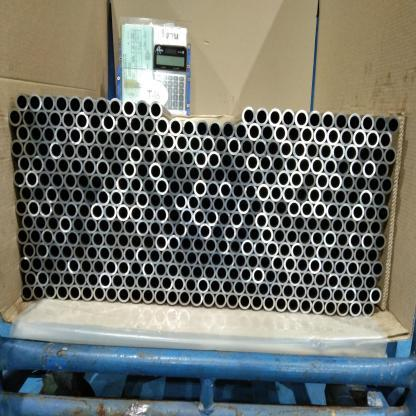pipe: (344, 143, 359, 163), (225, 166, 240, 186), (320, 186, 335, 206), (42, 124, 56, 145), (300, 124, 314, 145), (115, 113, 129, 134), (387, 115, 401, 136), (292, 140, 307, 159), (370, 145, 385, 164), (232, 152, 247, 171), (245, 153, 260, 172), (263, 168, 278, 187), (289, 170, 304, 189), (287, 124, 301, 144), (55, 125, 69, 145), (68, 126, 82, 146), (340, 127, 354, 147), (352, 128, 366, 148), (366, 129, 380, 149), (148, 131, 162, 151), (162, 132, 176, 152), (202, 134, 216, 154), (89, 142, 103, 162), (32, 184, 46, 204), (108, 97, 122, 117), (122, 98, 136, 118), (135, 99, 149, 119), (22, 108, 36, 128), (35, 108, 49, 128), (334, 112, 348, 132), (88, 112, 102, 132), (128, 114, 142, 134), (142, 115, 156, 135), (156, 116, 170, 136), (221, 120, 235, 140), (260, 122, 274, 142), (379, 129, 392, 150), (292, 214, 307, 232), (16, 124, 30, 143), (29, 125, 43, 144), (313, 127, 327, 146), (326, 127, 340, 146), (82, 127, 96, 146), (95, 128, 109, 147), (108, 128, 122, 147), (136, 131, 150, 150), (175, 133, 189, 152), (188, 134, 202, 153), (227, 136, 241, 155), (240, 137, 254, 156), (253, 138, 267, 157), (266, 139, 280, 158), (10, 139, 24, 158), (36, 140, 50, 159), (306, 141, 320, 160), (62, 141, 76, 160), (76, 142, 90, 161), (358, 145, 372, 164), (116, 145, 130, 164), (142, 146, 156, 165), (155, 147, 169, 166), (168, 148, 182, 167), (181, 149, 195, 168), (271, 154, 285, 173), (30, 155, 44, 174), (284, 155, 298, 174), (56, 156, 70, 175), (310, 156, 324, 175), (69, 157, 83, 176), (324, 157, 338, 176), (336, 158, 350, 177), (96, 158, 110, 177), (109, 159, 123, 178), (122, 160, 136, 179), (136, 161, 150, 180), (162, 162, 176, 181), (187, 164, 201, 183), (238, 167, 252, 186), (251, 168, 265, 187), (76, 172, 90, 191), (328, 172, 342, 191), (354, 174, 368, 193), (129, 175, 143, 194), (142, 176, 156, 195), (295, 185, 309, 204), (308, 186, 322, 205), (83, 187, 97, 206), (130, 204, 144, 223), (46, 214, 60, 233), (148, 219, 162, 238), (54, 95, 68, 114), (68, 95, 82, 114), (82, 96, 96, 115), (95, 97, 109, 116), (242, 107, 256, 126), (8, 108, 22, 127), (268, 108, 282, 127), (281, 108, 295, 127), (308, 110, 322, 129), (62, 110, 76, 129), (321, 111, 335, 130), (75, 111, 89, 130), (102, 113, 116, 132), (347, 113, 361, 132), (374, 115, 388, 134), (247, 122, 261, 141), (149, 100, 162, 120), (122, 130, 136, 148), (214, 136, 228, 154), (23, 140, 37, 158), (279, 140, 293, 158), (102, 144, 116, 162), (128, 146, 142, 164), (194, 150, 208, 168), (258, 154, 272, 172), (298, 156, 312, 174), (43, 156, 57, 174), (82, 158, 96, 176), (362, 160, 376, 178), (148, 162, 162, 180), (200, 165, 214, 183), (212, 166, 226, 184), (315, 172, 329, 190), (90, 174, 104, 192), (102, 174, 116, 192), (116, 175, 130, 193), (155, 178, 169, 196), (168, 178, 182, 196), (193, 180, 207, 198), (244, 182, 258, 200), (282, 185, 296, 203), (58, 186, 72, 204), (96, 188, 110, 206), (110, 189, 124, 207), (122, 190, 136, 208), (148, 192, 162, 210), (186, 194, 200, 212), (224, 196, 238, 214), (262, 198, 276, 216), (312, 201, 326, 219), (90, 203, 104, 221), (338, 203, 352, 221), (116, 204, 130, 222), (242, 211, 256, 229), (306, 215, 320, 233), (318, 216, 332, 234), (84, 216, 98, 234), (356, 218, 370, 236), (136, 218, 150, 236), (260, 226, 274, 244), (116, 232, 130, 250), (228, 238, 242, 256), (30, 256, 44, 274), (42, 256, 56, 274), (370, 260, 384, 278), (358, 260, 372, 278), (36, 270, 50, 288), (326, 272, 340, 290), (262, 294, 276, 312), (336, 300, 350, 318), (48, 110, 62, 128), (168, 118, 182, 136), (234, 122, 248, 140), (274, 124, 288, 142), (319, 142, 332, 161), (332, 143, 345, 162), (220, 151, 233, 170), (18, 154, 31, 173), (350, 159, 363, 178), (175, 163, 188, 182), (38, 170, 51, 189), (51, 171, 64, 190), (303, 171, 316, 190), (376, 204, 389, 223), (331, 216, 344, 235), (273, 226, 286, 245), (255, 107, 268, 126), (182, 118, 195, 137), (196, 119, 209, 138), (209, 120, 222, 139), (50, 140, 62, 160), (376, 160, 388, 180), (207, 151, 221, 168), (12, 170, 26, 187), (58, 216, 72, 233), (110, 218, 124, 235), (122, 218, 136, 235), (78, 230, 92, 247), (348, 232, 362, 249), (154, 234, 168, 251), (328, 245, 342, 262), (258, 254, 272, 271), (308, 257, 322, 274), (86, 271, 100, 288), (226, 292, 240, 309), (274, 296, 288, 313), (277, 170, 290, 188), (380, 176, 393, 194), (181, 178, 194, 196), (206, 180, 219, 198), (219, 181, 232, 199), (257, 184, 270, 202), (45, 186, 58, 204), (71, 187, 84, 205), (334, 188, 347, 206), (347, 188, 360, 206), (372, 190, 385, 208), (136, 191, 149, 209), (174, 192, 187, 210), (15, 198, 28, 216), (275, 198, 288, 216), (27, 199, 40, 217), (39, 200, 52, 218), (300, 200, 313, 218), (52, 201, 65, 219), (65, 201, 78, 219), (326, 202, 339, 220), (364, 204, 377, 222), (180, 207, 193, 225), (193, 208, 206, 226), (230, 210, 243, 228), (280, 213, 293, 231), (34, 214, 47, 232), (211, 223, 224, 241), (236, 224, 249, 242), (248, 226, 261, 244), (311, 230, 324, 248), (23, 242, 36, 260), (48, 242, 61, 260), (234, 252, 247, 270), (271, 254, 284, 272), (296, 256, 309, 274), (55, 256, 68, 274), (301, 270, 314, 288), (349, 300, 362, 318), (362, 300, 375, 318), (16, 93, 29, 111), (29, 94, 42, 112), (295, 110, 308, 128), (361, 114, 374, 132), (368, 175, 380, 194), (20, 184, 32, 203), (360, 189, 372, 208), (256, 211, 268, 230), (268, 212, 280, 231), (92, 230, 104, 249), (192, 235, 204, 254), (161, 247, 173, 266), (142, 206, 156, 222), (278, 242, 292, 258), (290, 244, 304, 260), (80, 285, 94, 301), (214, 292, 228, 308), (155, 207, 168, 224), (369, 219, 382, 236), (161, 221, 174, 238), (186, 222, 199, 239), (16, 228, 29, 245), (29, 228, 42, 245), (66, 230, 79, 247), (104, 231, 117, 248), (336, 232, 349, 249), (361, 233, 374, 250), (61, 243, 74, 260), (73, 244, 86, 261), (98, 245, 111, 262), (123, 246, 136, 263), (321, 258, 334, 275), (92, 258, 105, 275), (264, 268, 277, 285), (276, 269, 289, 286), (49, 270, 62, 287), (74, 271, 87, 288), (364, 274, 377, 291), (196, 277, 209, 294), (209, 278, 222, 295), (68, 284, 81, 301), (369, 287, 382, 304), (356, 287, 369, 304), (324, 300, 337, 317), (384, 146, 396, 164), (26, 170, 38, 188), (64, 172, 76, 190), (342, 174, 354, 192), (232, 182, 244, 200), (270, 184, 282, 202), (162, 192, 174, 210), (200, 194, 212, 212), (250, 198, 262, 216), (288, 200, 300, 218), (78, 202, 90, 220), (104, 203, 116, 221), (352, 203, 364, 221), (168, 206, 180, 224), (22, 213, 34, 231), (72, 216, 84, 234), (344, 217, 356, 235), (324, 230, 336, 248), (168, 234, 180, 252), (180, 235, 192, 253), (266, 240, 278, 258), (86, 244, 98, 262), (186, 249, 198, 267), (105, 258, 117, 276), (179, 262, 191, 280), (204, 264, 216, 282), (216, 264, 228, 282), (25, 270, 37, 288), (112, 272, 124, 290), (160, 274, 172, 292), (282, 282, 294, 300), (130, 286, 142, 304), (287, 296, 299, 314), (312, 298, 324, 316), (42, 94, 54, 112), (224, 223, 235, 242), (212, 196, 225, 212), (98, 218, 111, 234), (298, 230, 311, 246), (142, 234, 155, 250), (374, 234, 387, 250), (316, 245, 329, 261), (366, 248, 379, 264), (222, 252, 235, 268), (346, 260, 359, 276), (142, 261, 155, 277), (289, 270, 302, 286), (351, 274, 364, 290), (294, 284, 307, 300), (56, 284, 69, 300), (105, 286, 118, 302), (206, 209, 218, 226), (174, 221, 186, 238), (199, 223, 211, 240), (54, 229, 66, 246), (130, 233, 142, 250), (204, 237, 216, 254), (242, 239, 254, 256), (254, 240, 266, 257), (36, 242, 48, 259), (148, 248, 160, 265), (174, 249, 186, 266), (210, 251, 222, 268), (284, 256, 296, 273), (68, 257, 80, 274), (118, 259, 130, 276), (334, 259, 346, 276), (130, 260, 142, 277), (155, 261, 167, 278), (240, 266, 252, 283), (339, 273, 351, 290), (124, 273, 136, 290), (148, 274, 160, 291), (221, 278, 233, 295), (233, 279, 245, 296), (246, 280, 258, 297), (258, 281, 270, 298), (44, 283, 56, 300), (93, 285, 105, 302), (93, 285, 105, 302), (118, 286, 130, 303), (320, 286, 332, 303), (332, 287, 344, 304), (344, 287, 356, 304), (142, 287, 154, 304), (154, 288, 166, 305), (166, 289, 178, 306), (178, 289, 190, 306), (190, 290, 202, 307), (238, 293, 250, 310), (251, 294, 263, 311), (307, 284, 318, 302), (286, 229, 298, 245), (217, 238, 229, 254), (304, 244, 316, 260), (111, 246, 123, 262), (342, 246, 354, 262), (354, 247, 366, 263), (136, 248, 148, 264), (198, 251, 210, 267), (247, 254, 259, 270), (19, 257, 31, 273), (80, 258, 92, 274), (167, 262, 179, 278), (192, 264, 204, 280), (228, 266, 240, 282), (252, 268, 264, 284), (62, 271, 74, 287), (314, 272, 326, 288), (100, 272, 112, 288), (136, 274, 148, 290), (173, 276, 185, 292), (185, 276, 197, 292), (270, 282, 282, 298), (32, 284, 44, 300), (21, 285, 33, 301), (300, 298, 312, 314), (238, 197, 249, 214), (219, 210, 230, 227), (42, 228, 53, 245), (203, 291, 214, 308)
